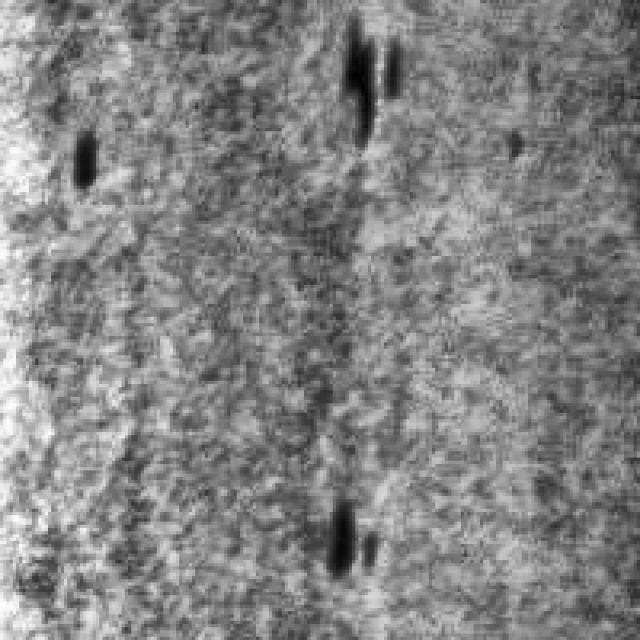Patches: (330, 7, 403, 148), (314, 487, 384, 582), (60, 122, 100, 192)
